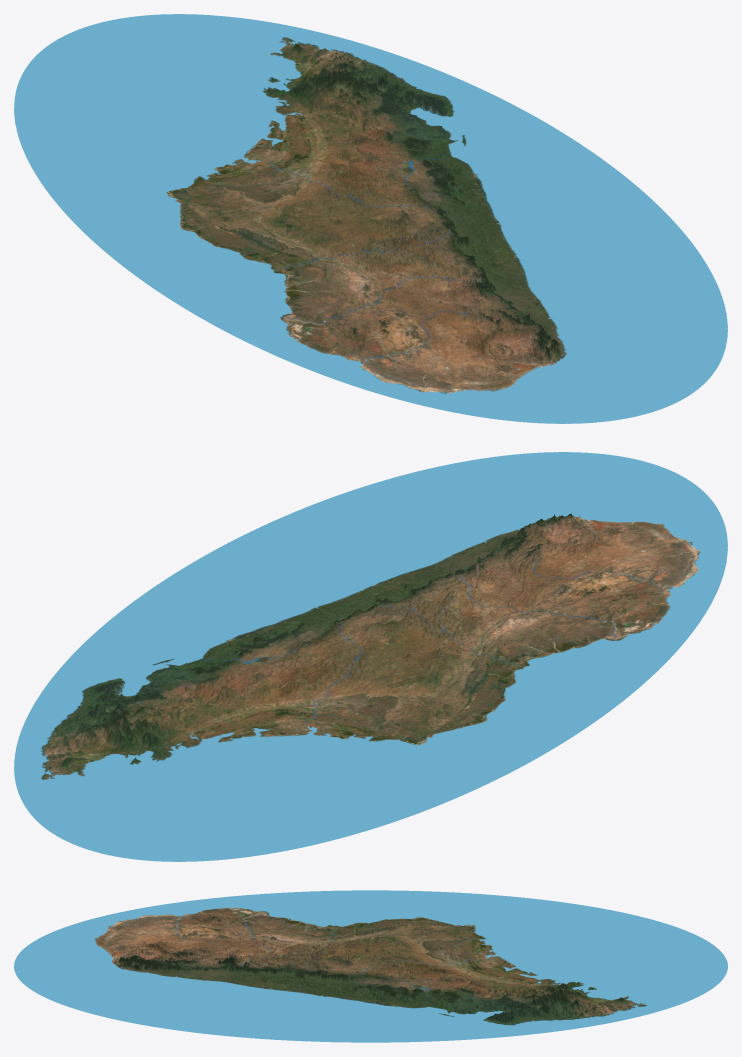
File: MDG-previa-terrain.glb
3 views of the same model, one above another, from view 1: azimuth 30°, elevation 25°; view 2: azimuth 150°, elevation 25°; view 3: azimuth 270°, elevation 25° (orthographic). The views are drawn at different scales.
Visible parts, largest first — view 1: Madagáscar; view 2: Madagáscar; view 3: Madagáscar.
Boxes of the visible parts, x1,y1,x2,y2 form: Madagáscar: (14,14,727,423); Madagáscar: (14,452,727,861); Madagáscar: (14,890,727,1042).
Size of the model in its own units: 1.15 by 0.0422 by 2.27.
1 material, 1 textured.
